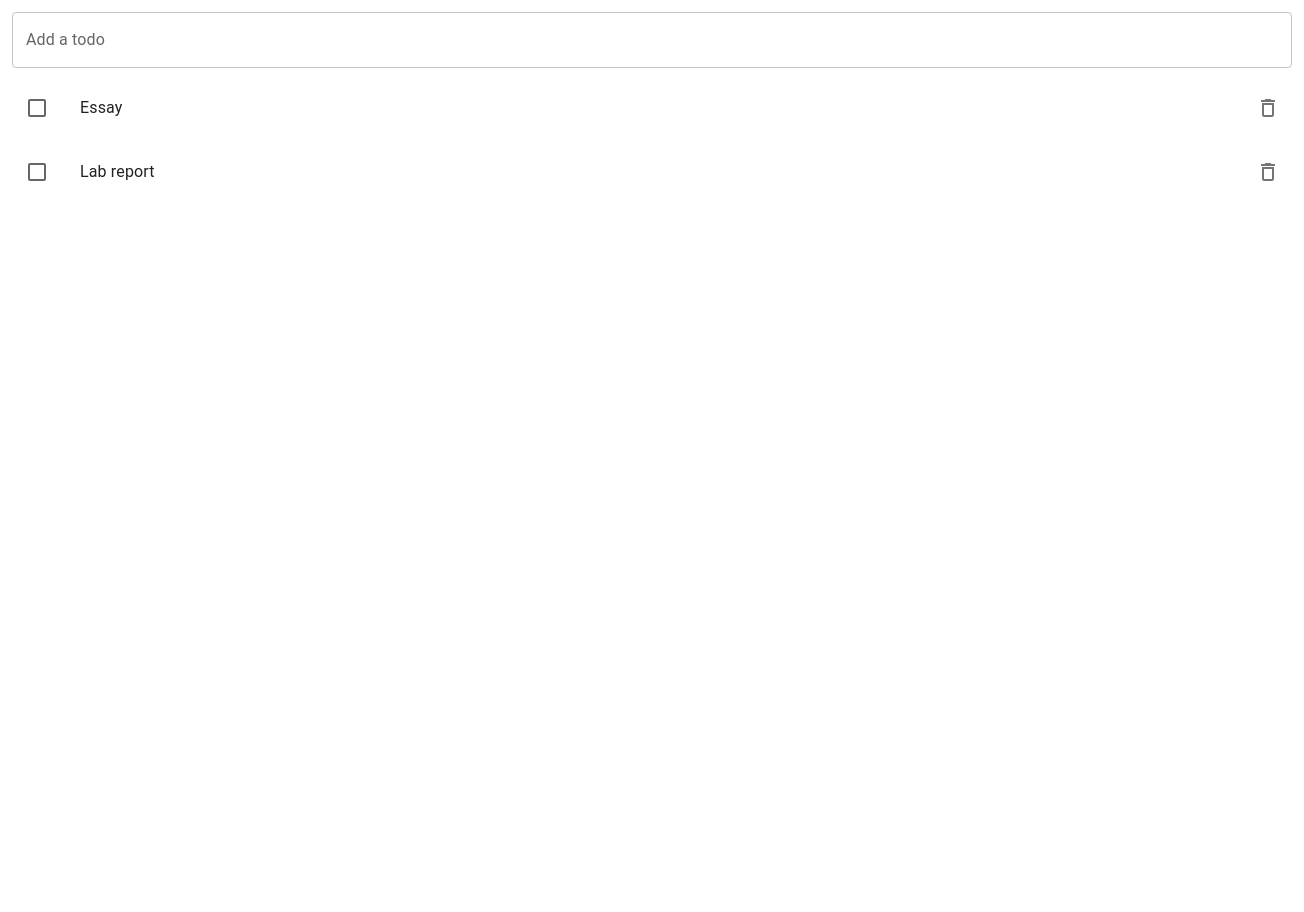
it: tapping a todo's checkbox or delete button doesn't open the editor
Click the checkbox labelled "Essay" at (37, 108), box [25,96,49,120]
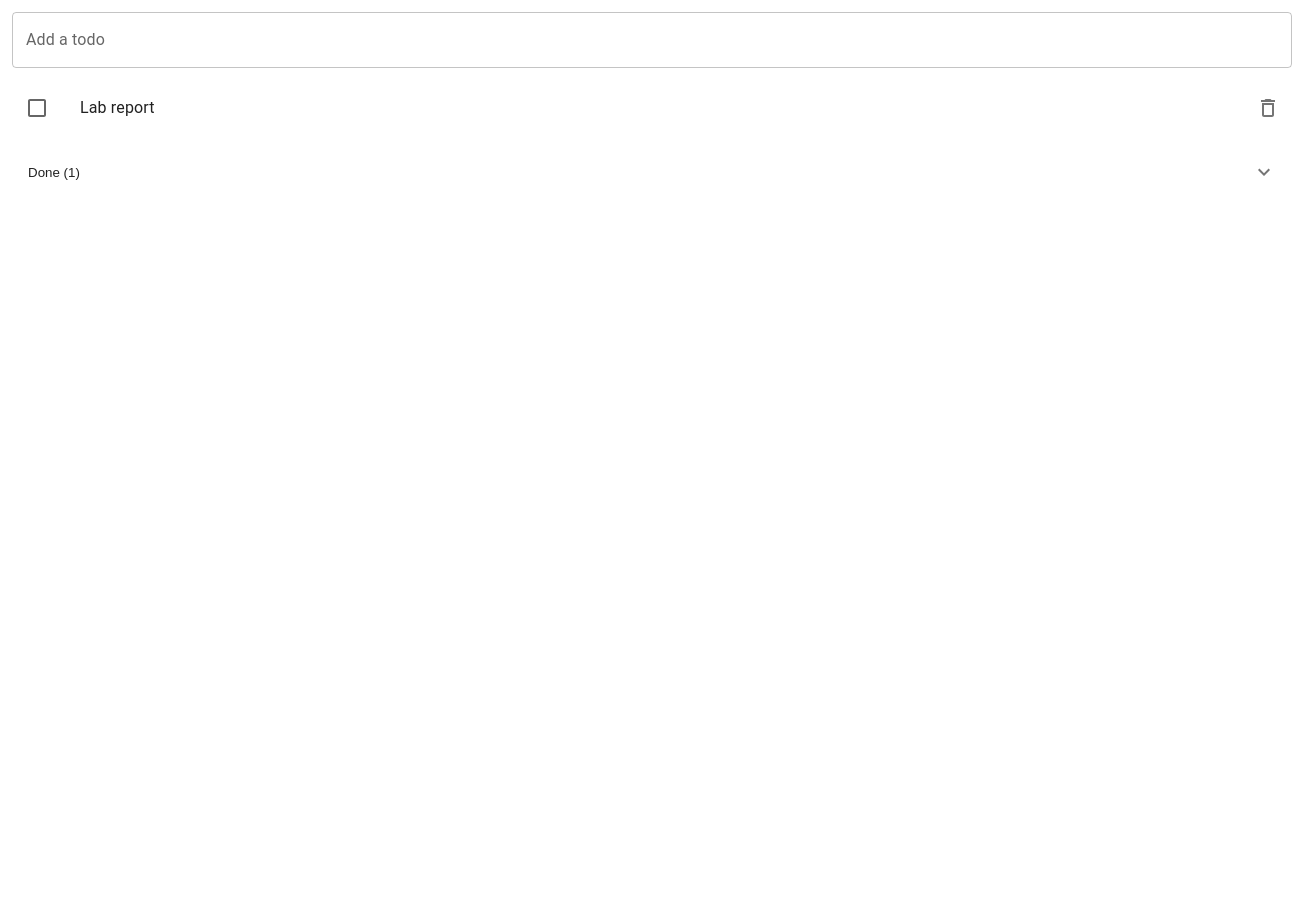
Click the button named "Delete Lab report" at (1268, 108), box [1248,88,1288,128]
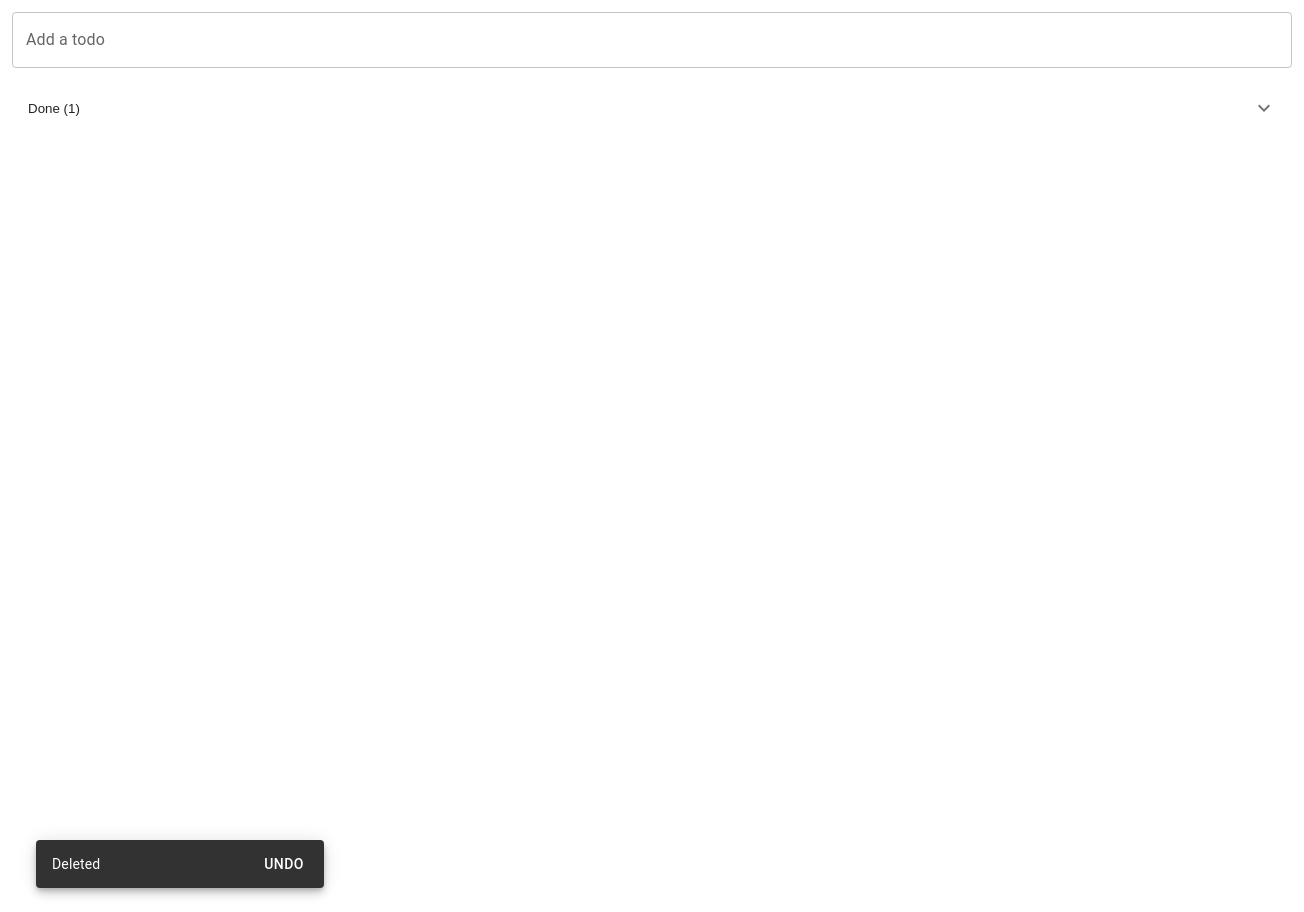
Expected: the button "Lab report" is gone
